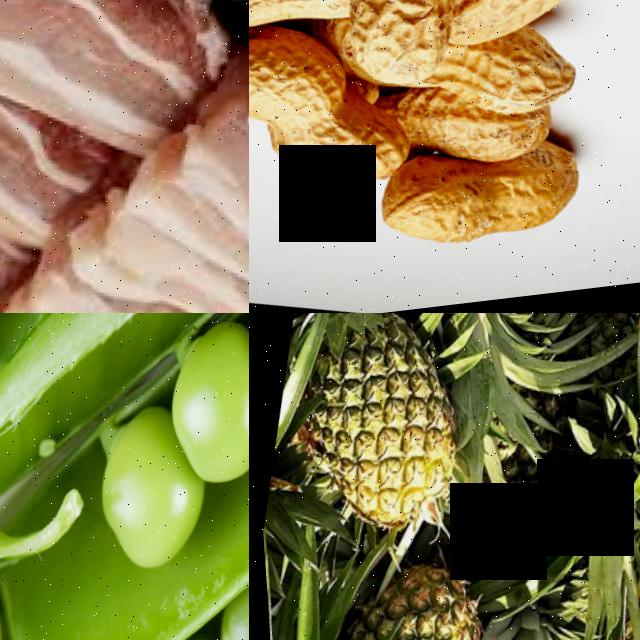peanuts: (362, 135, 584, 290), (323, 0, 488, 107), (429, 42, 586, 145), (249, 13, 343, 154), (484, 0, 640, 51), (249, 0, 351, 58)
peas: (64, 313, 249, 621), (116, 479, 249, 640)
pineapple: (256, 313, 498, 564), (287, 545, 495, 640)
pork belly: (0, 0, 240, 198), (0, 0, 90, 313)
